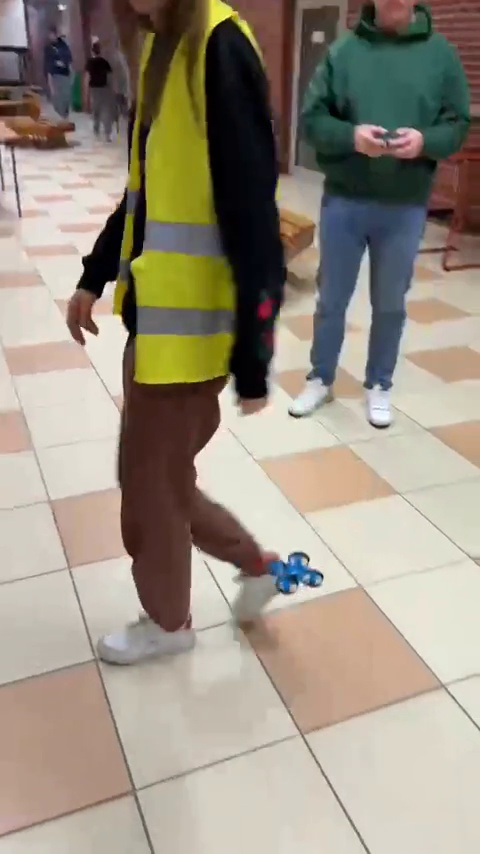drone: (262, 550, 319, 590)
no vest: (303, 5, 465, 426), (81, 38, 124, 132), (40, 27, 77, 124)
vest: (104, 3, 301, 653)
